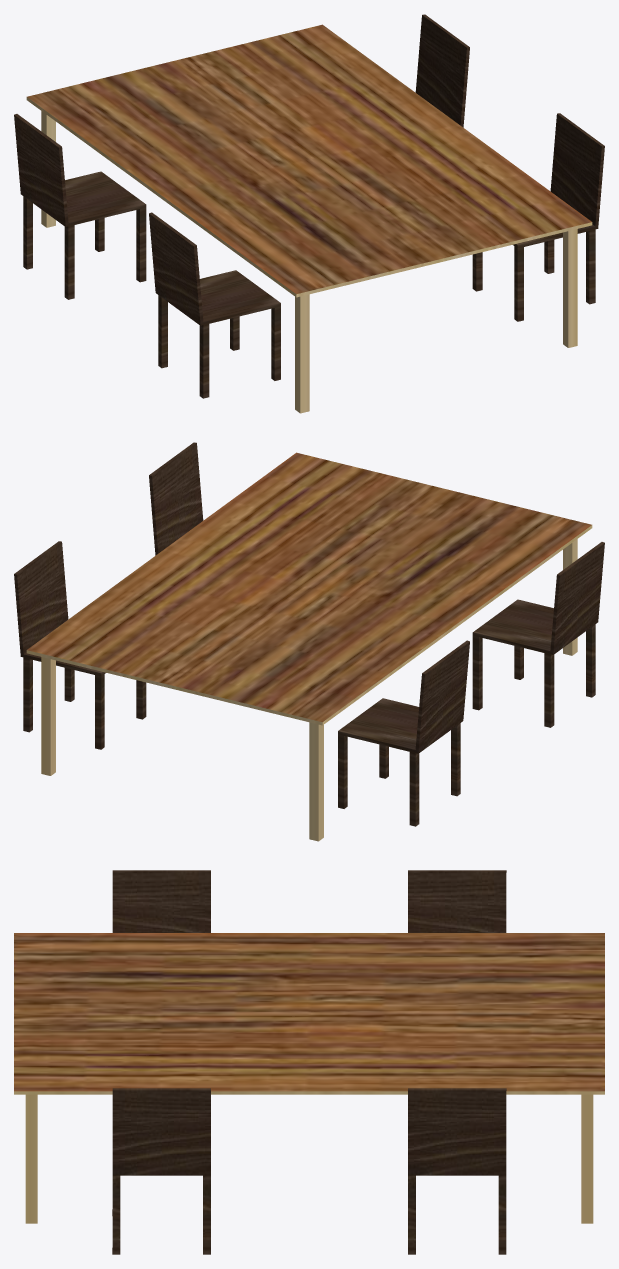
File: table1.glb
3 views of the same model, one above another, from view 1: azimuth 30°, elevation 25°; view 2: azimuth 150°, elevation 25°; view 3: azimuth 270°, elevation 25° (orthographic). The views are drawn at different scales.
Bounding box in the file's own units: 2.64 × 0.95 × 3.
Materials: 3 (3 with a texture image).
